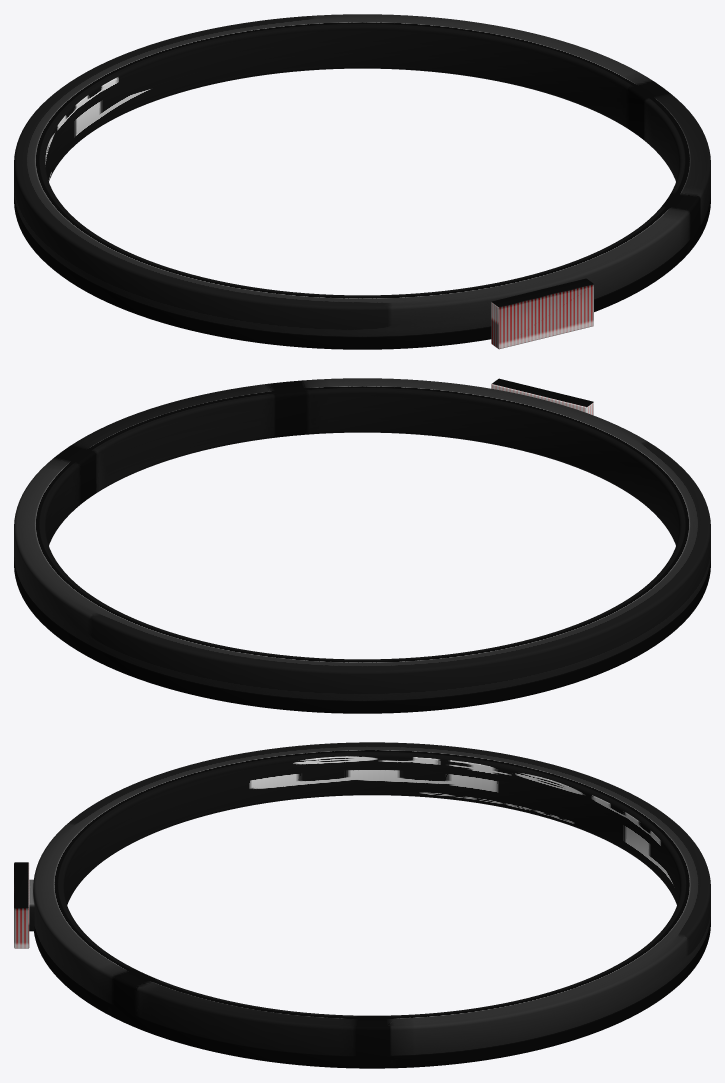
File: 12-scalering-1m.dae
3 renders of one model, top to bottom at view 1: azimuth 30°, elevation 25°; view 2: azimuth 150°, elevation 25°; view 3: azimuth 270°, elevation 25°, orthographic. The views are drawn at different scales.
Parts seen in each view (by area): view 1: scalering.1, screen.1; view 2: scalering.1, screen.1; view 3: scalering.1, screen.1.
Boxes of the visible parts, x1,y1,x2,y2 form: scalering.1: (14,14,710,349); screen.1: (491,278,593,349); scalering.1: (14,378,710,713); screen.1: (491,378,593,415); scalering.1: (33,742,710,1068); screen.1: (14,862,29,948).
Bounding box in the file's own units: 11 × 0.75 × 11.31.
Materials: 3 (3 with a texture image).
